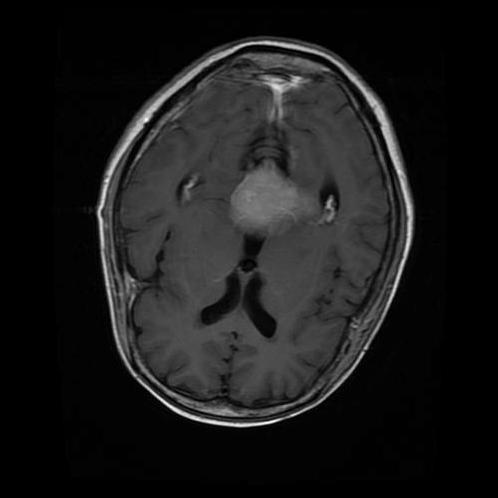Tumour-Meningioma: (202, 158, 356, 247)
